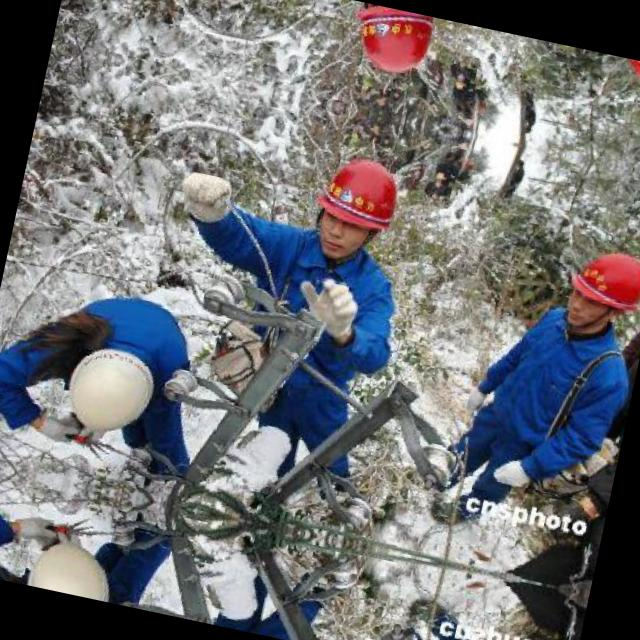helmet: (300, 140, 416, 271), (51, 328, 168, 442), (339, 0, 447, 89), (559, 232, 640, 341), (18, 530, 126, 602), (609, 55, 640, 104)
